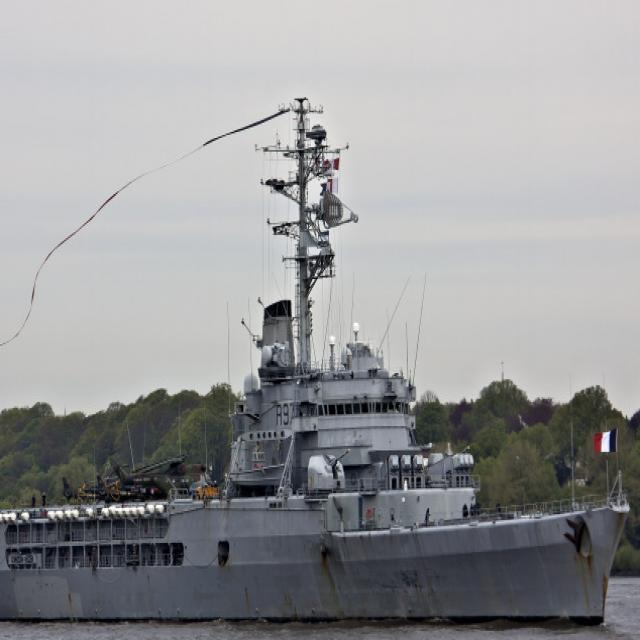Portanaves: (1, 83, 636, 632)
